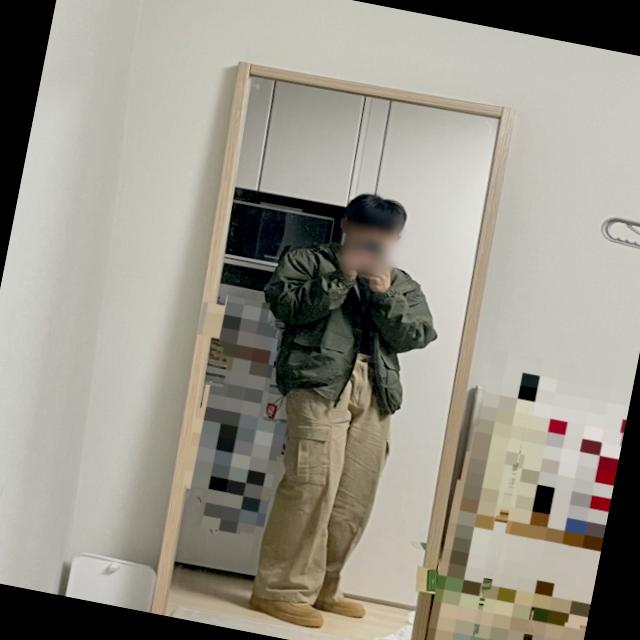cottonpants: (248, 344, 410, 621)
jacket: (251, 232, 458, 424)
